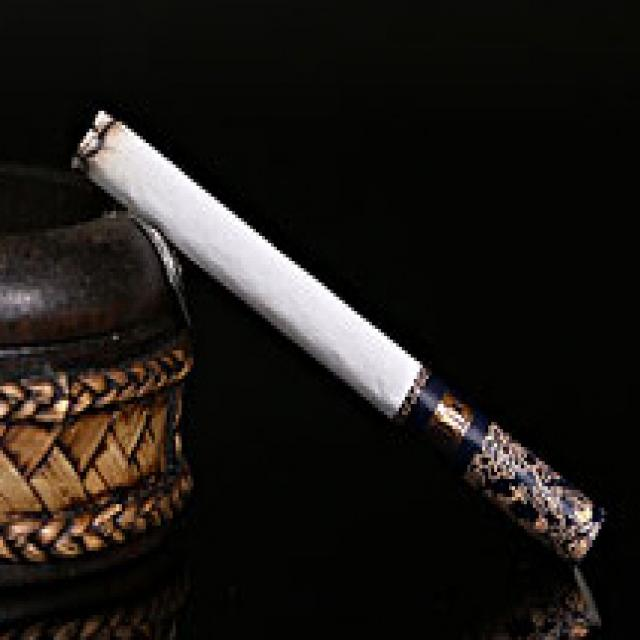smoke: (71, 111, 599, 571), (598, 571, 610, 571)
